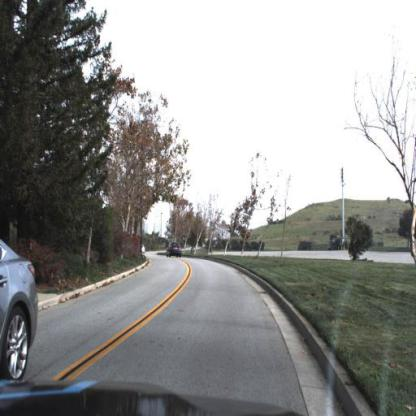car: (167, 240, 185, 261)
